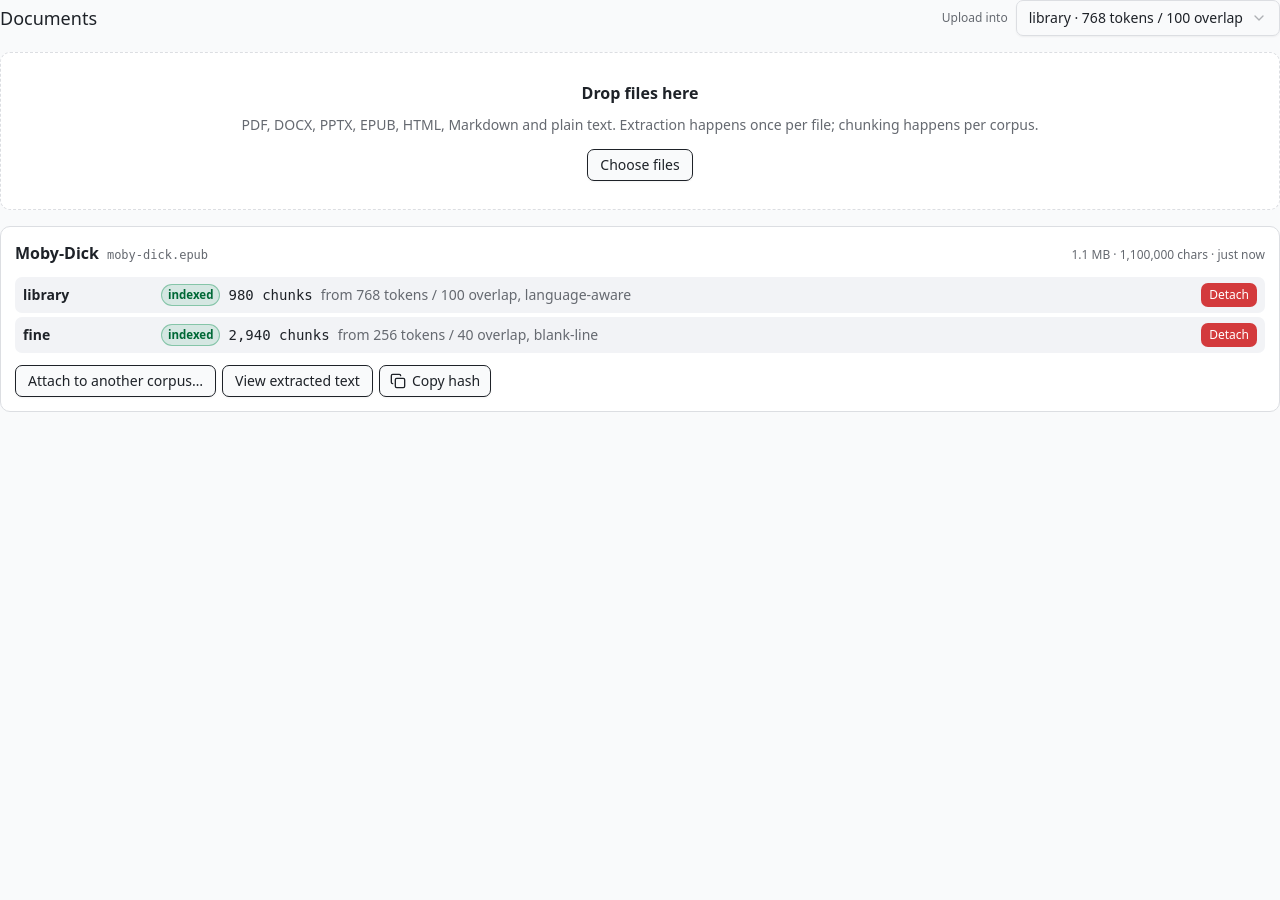
detaching a document › shows a refusal in the dialog that asked
Click the button "Detach" in the row of "language-aware": [1229, 295] box [1201,283,1257,307]
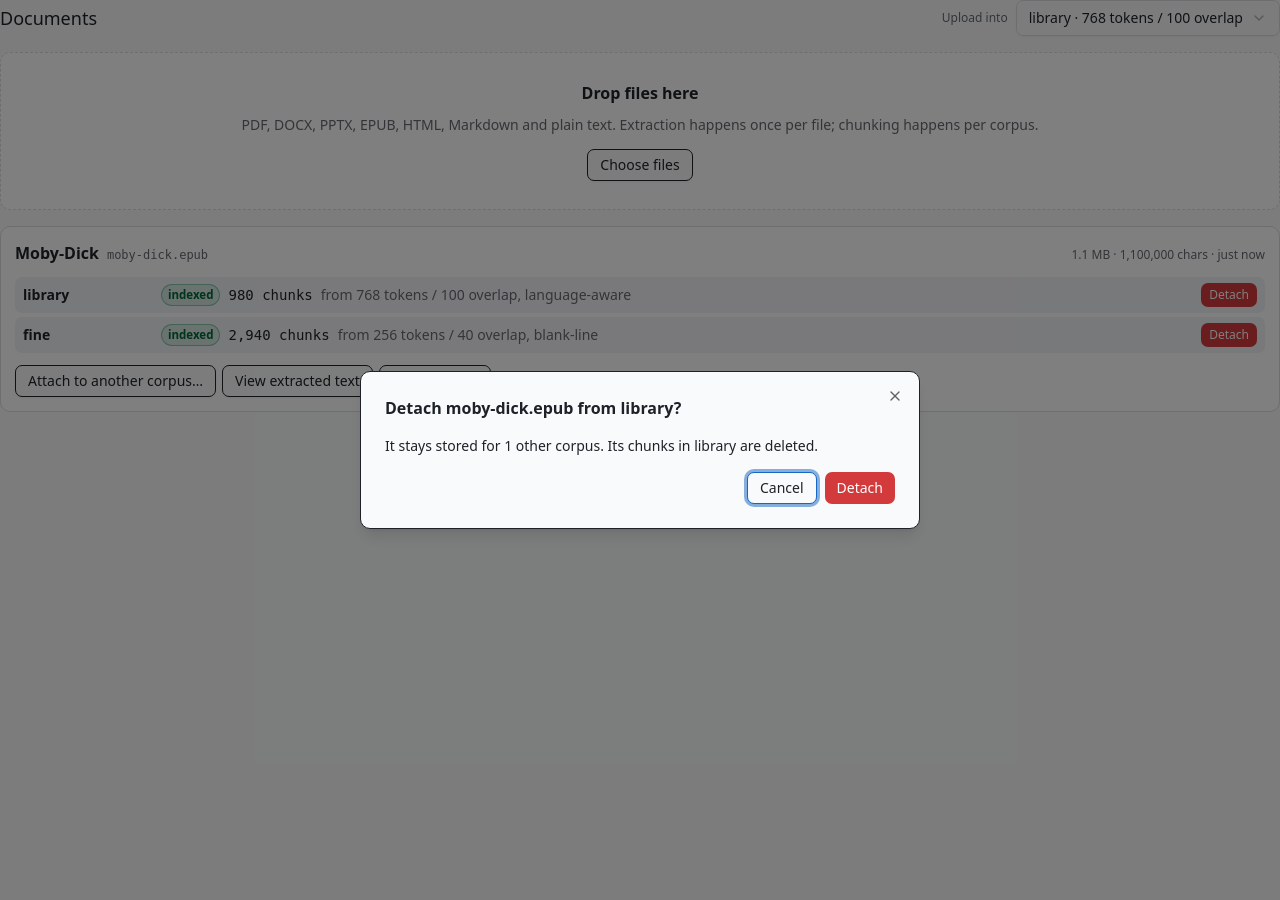
Click the button "Detach": [860, 488] box [825,472,895,504]
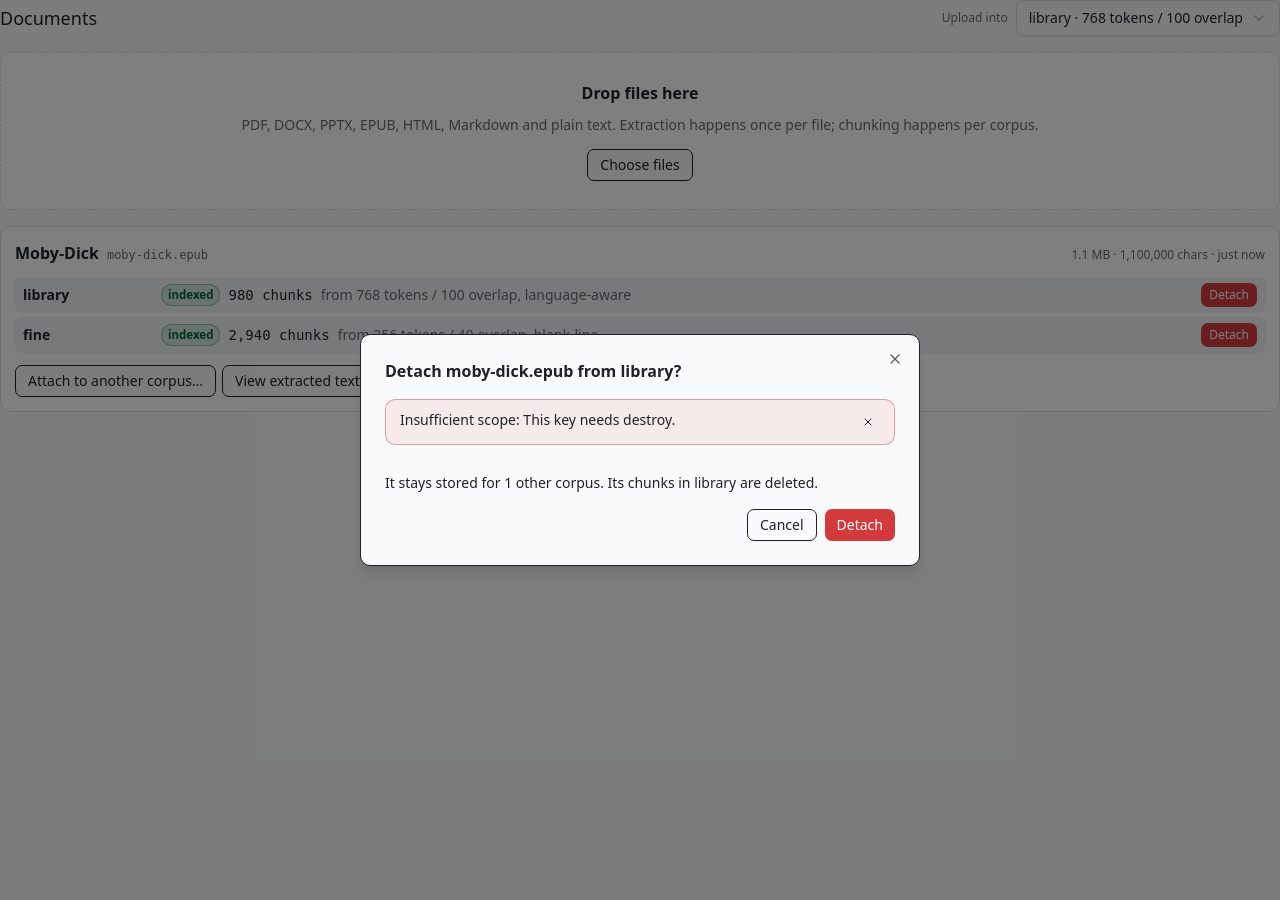
Expected: the message shows "needs destroy", [400,410,675,429]
